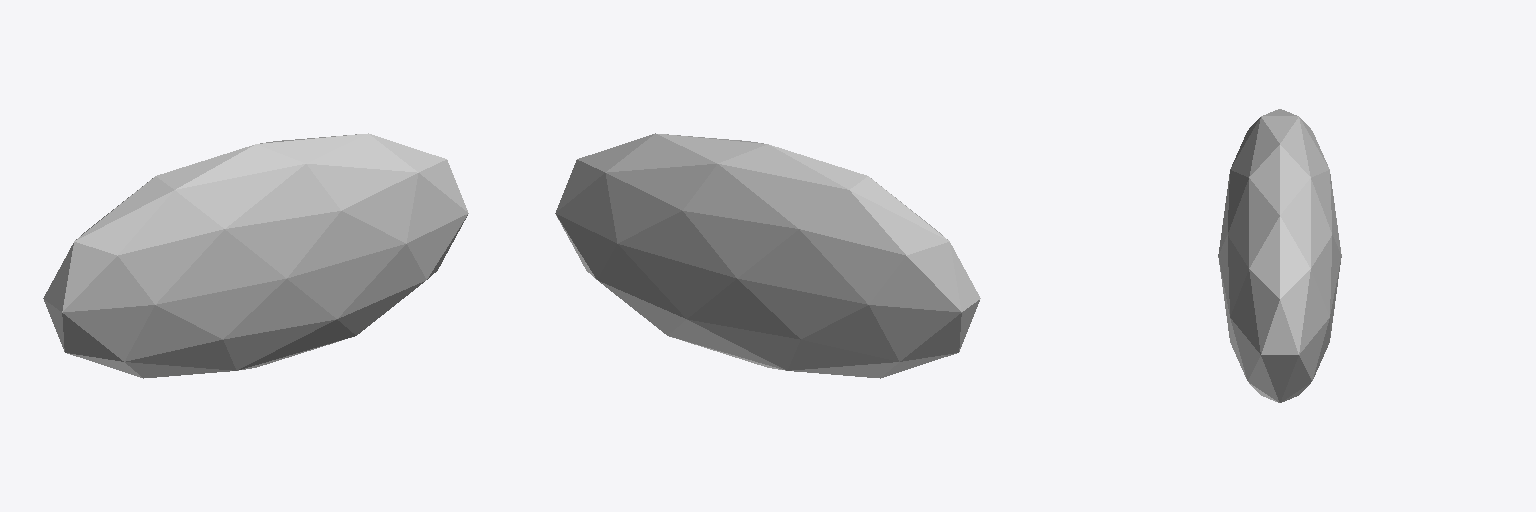
The model's file is ICO.obj.
3 views of the same model, side by side, from view 1: azimuth 30°, elevation 25°; view 2: azimuth 150°, elevation 25°; view 3: azimuth 270°, elevation 25° (orthographic).
Parts seen in each view (by area): view 1: ICO球; view 2: ICO球; view 3: ICO球.
Part boxes in pixels (x1,y1,x2,y2): ICO球: (43,133,468,378); ICO球: (555,133,980,378); ICO球: (1218,109,1341,402).
Bounding box in the file's own units: 7.61 × 4 × 2.